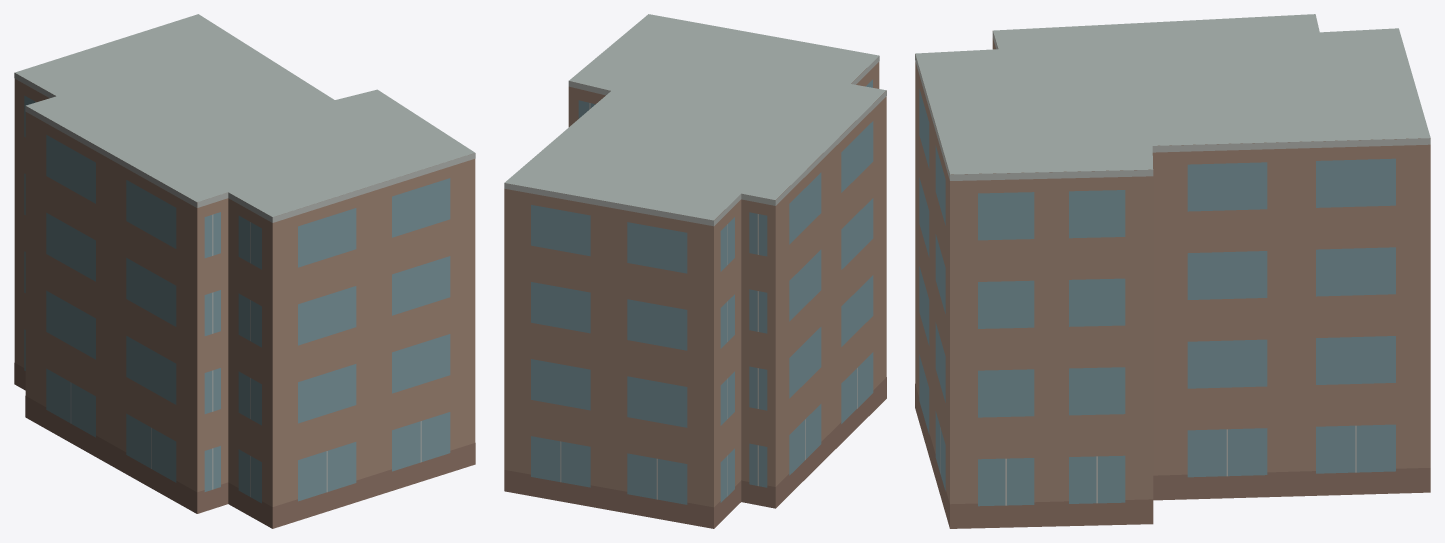
Rendered from survey-upis-32638822.glb.
3 renders of one model, left to right at view 1: azimuth 30°, elevation 25°; view 2: azimuth 150°, elevation 25°; view 3: azimuth 270°, elevation 25°, orthographic. The views are drawn at different scales.
Parts seen in each view (by area): view 1: survey-upis-32638822.tmp; view 2: survey-upis-32638822.tmp; view 3: survey-upis-32638822.tmp.
Part boxes in pixels (x1=…): survey-upis-32638822.tmp: x1=14, y1=14, x2=475, y2=528; survey-upis-32638822.tmp: x1=504, y1=14, x2=886, y2=528; survey-upis-32638822.tmp: x1=915, y1=14, x2=1430, y2=528.
Size of the model in its own units: 12.63 by 13 by 17.15.
